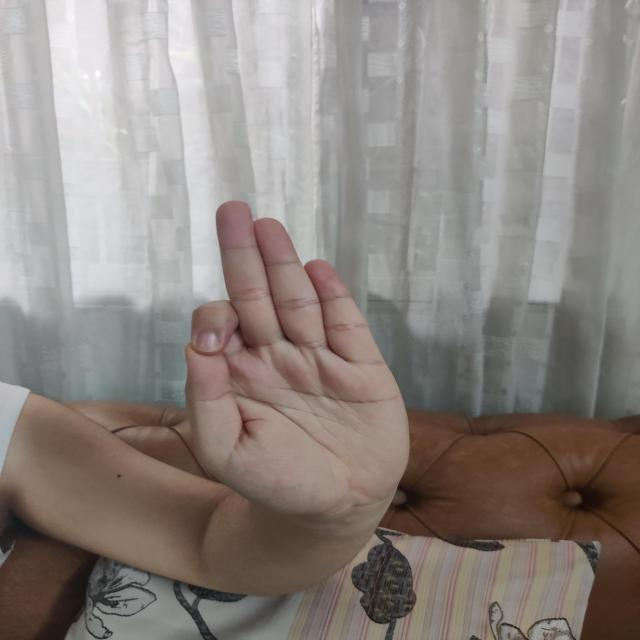F: (183, 198, 414, 516)
